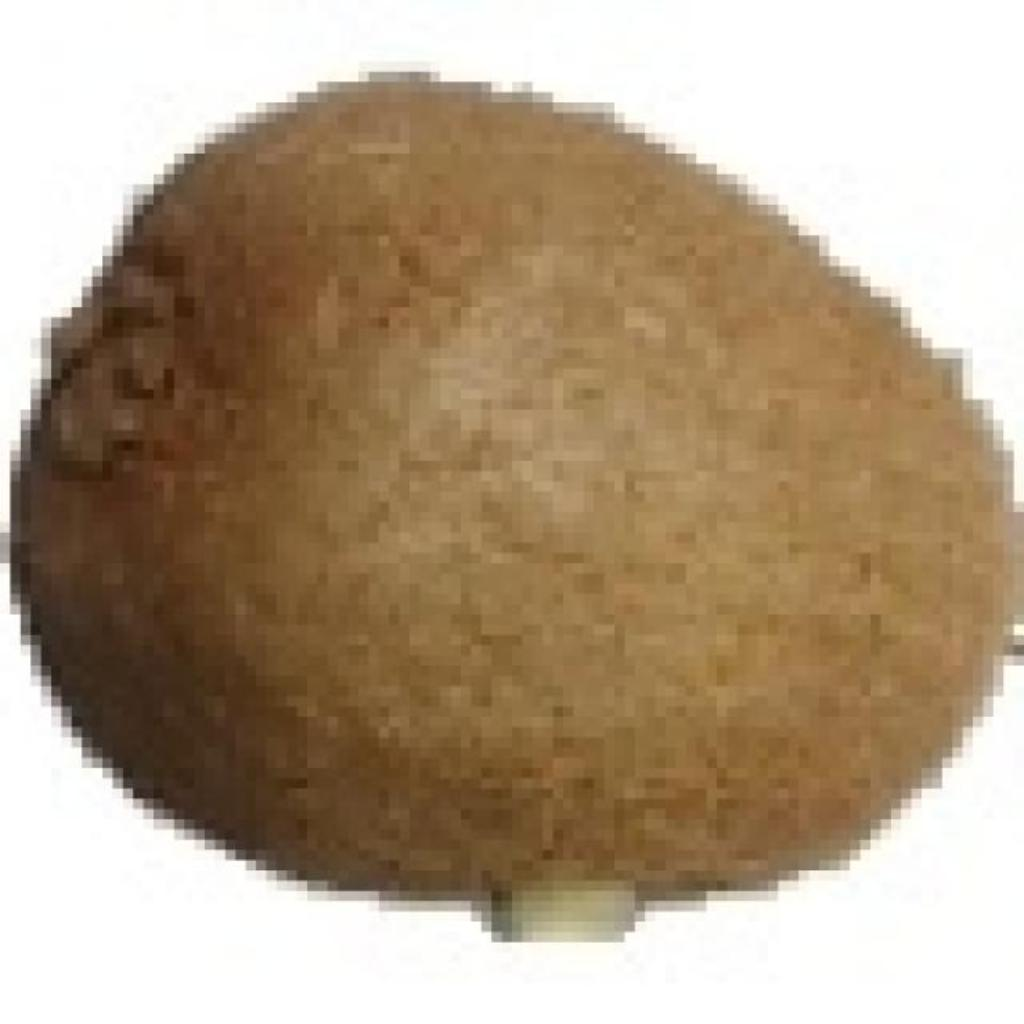kiwi: (31, 61, 1014, 911)
